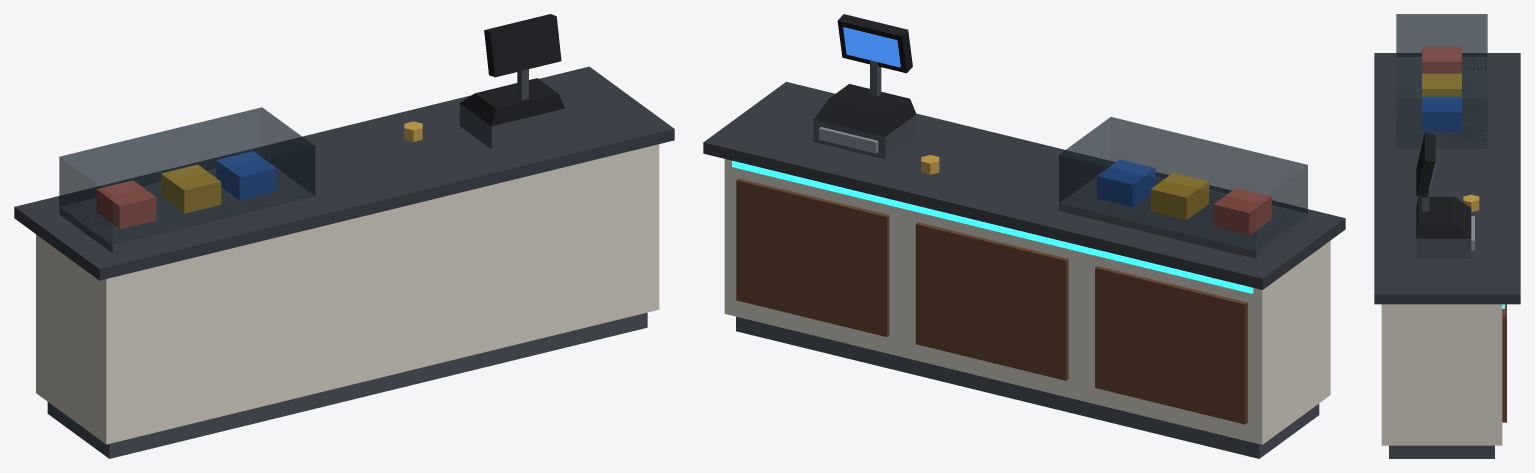
File: shop_counter.glb
The picture shows the model from 3 angles, left to right: view 1: azimuth 30°, elevation 25°; view 2: azimuth 150°, elevation 25°; view 3: azimuth 270°, elevation 25°; orthographic projection. The views are drawn at different scales.
Visible parts, largest first — view 1: Body; view 2: Body; view 3: Body.
Part boxes in pixels (x1,y1,x2,y2): Body: (14, 14, 674, 458); Body: (703, 14, 1345, 458); Body: (1374, 14, 1520, 458).
Size of the model in its own units: 3.12 by 1.62 by 0.8.
